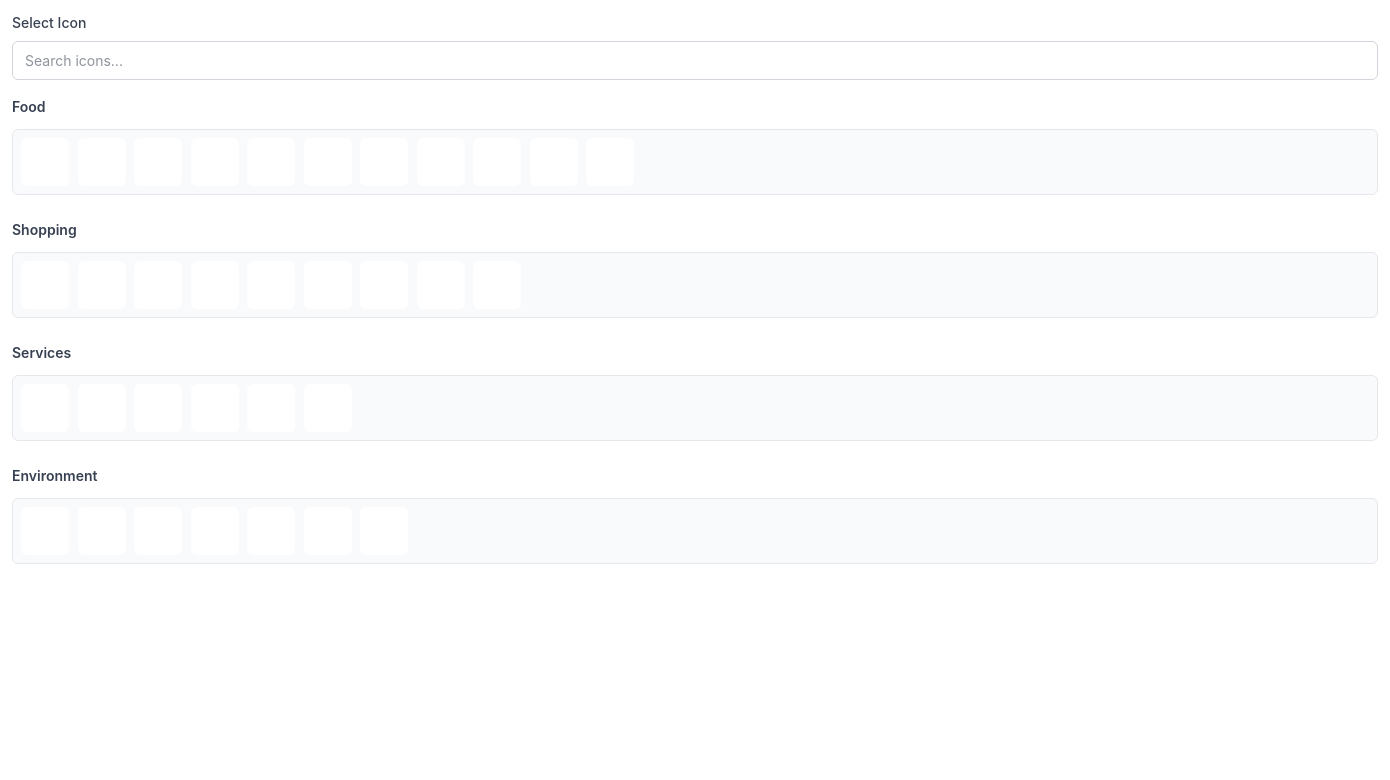
Test: IconSelector › Search Functionality › handles API error gracefully
This screenshot has width=1390, height=780.
Type "recycle" into the field labelled "Select Icon".
click(695, 60); type("recycle")  # box top-left (12, 41), bottom-right (1378, 80)
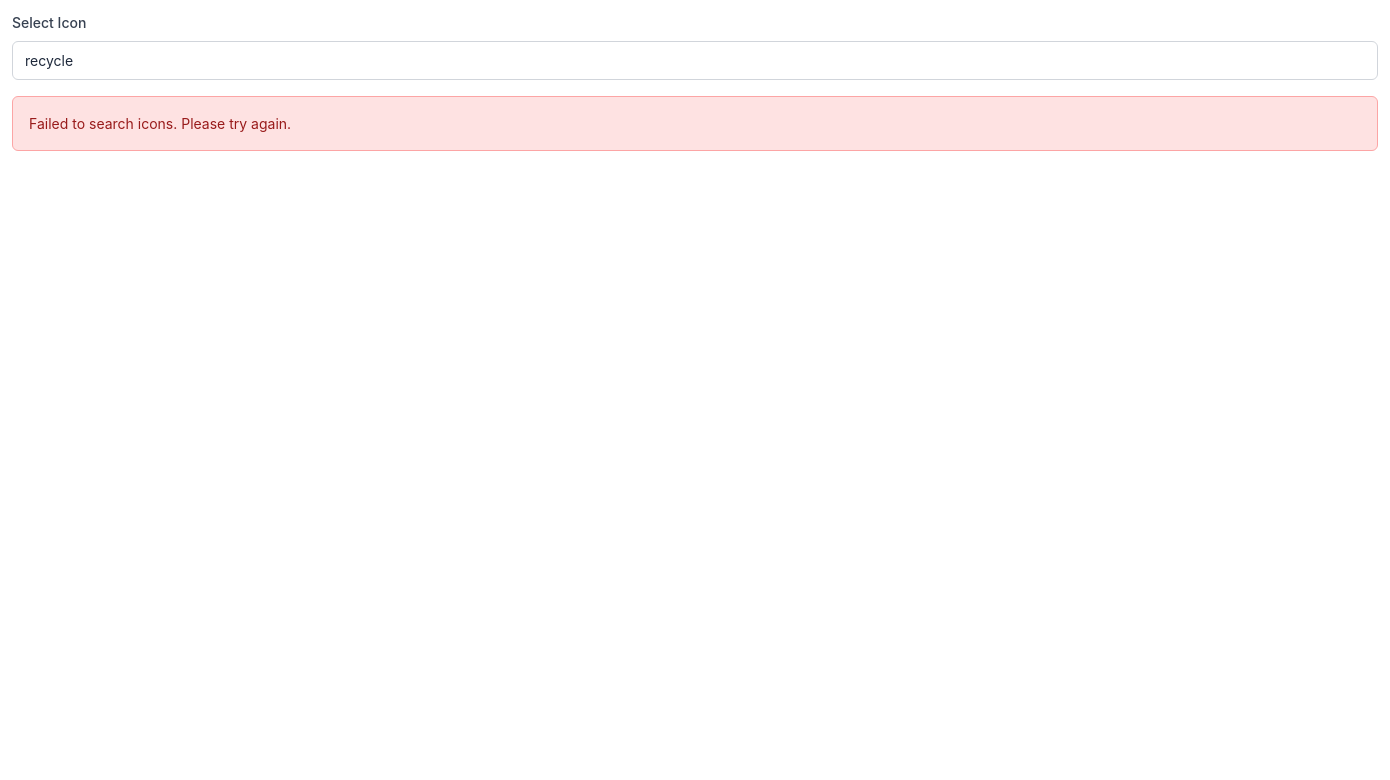
Now the element with test id "error-message" is shown, box top-left (12, 96), bottom-right (1378, 151)
